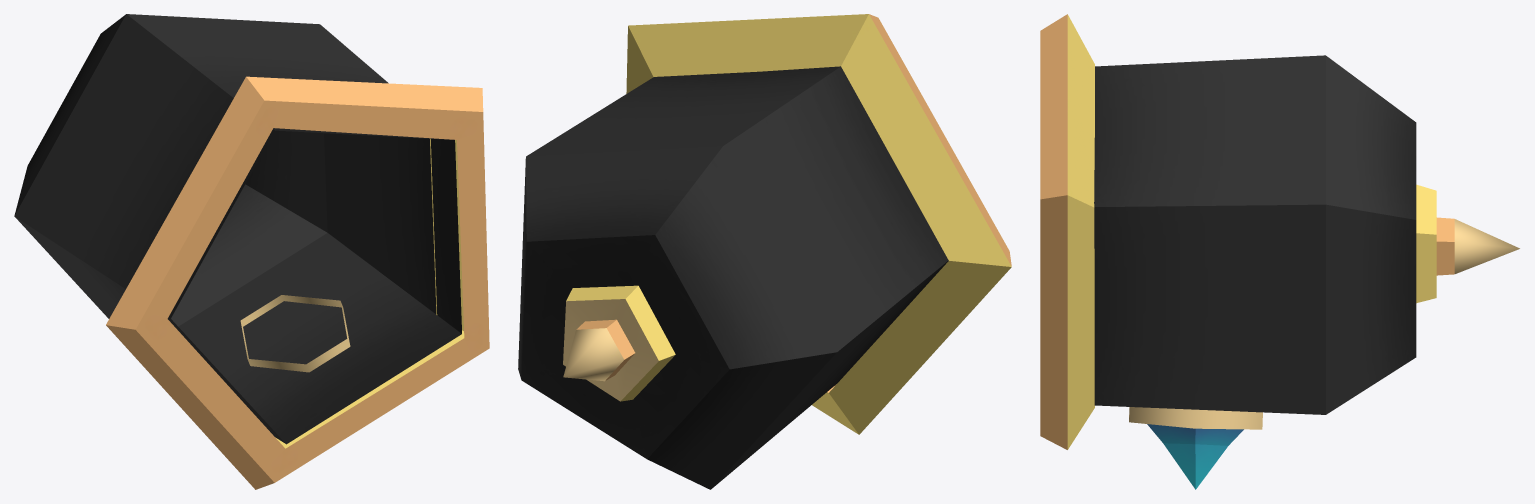
The model's file is Maozi.FBX.
The picture shows the model from 3 angles, left to right: view 1: azimuth 30°, elevation 25°; view 2: azimuth 150°, elevation 25°; view 3: azimuth 270°, elevation 25°; orthographic projection. The views are drawn at different scales.
Parts seen in each view (by area): view 1: Object024; view 2: Object024; view 3: Object024.
Part boxes in pixels (<box>): Object024: <box>14,14,489,489</box>; Object024: <box>518,14,1011,489</box>; Object024: <box>1040,14,1519,489</box>.
Bounding box in the file's own units: 3.14 × 3.26 × 3.47.
1 material, 1 textured.
